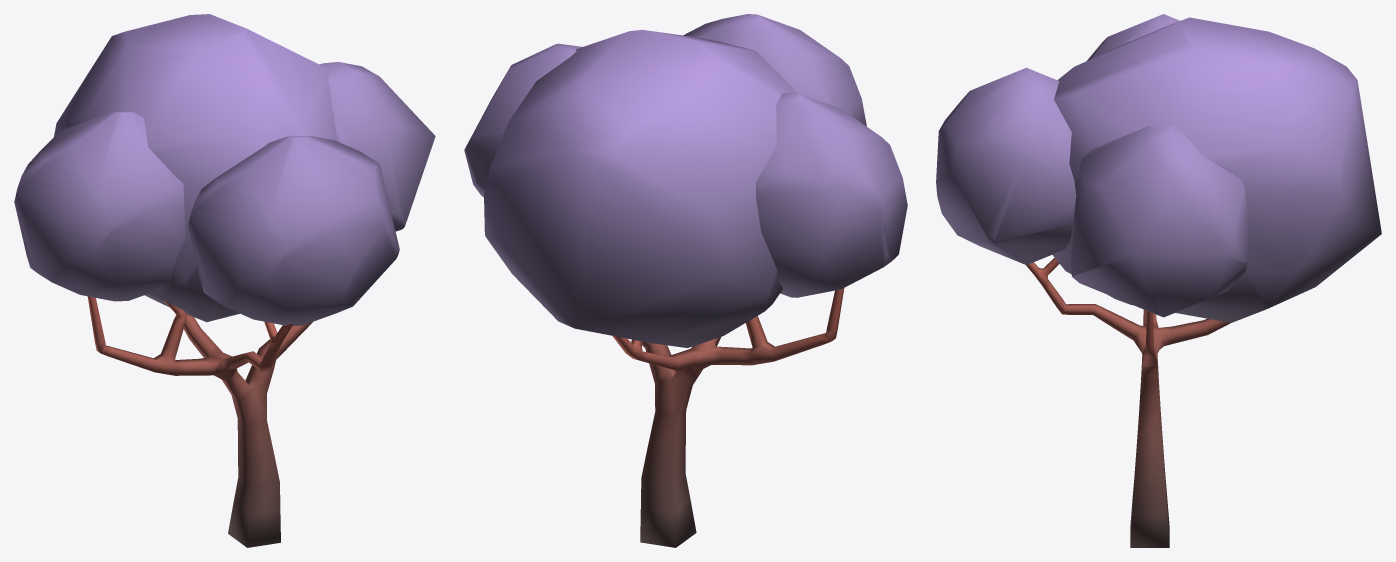
The picture shows the model from 3 angles, left to right: view 1: azimuth 30°, elevation 25°; view 2: azimuth 150°, elevation 25°; view 3: azimuth 270°, elevation 25°; orthographic projection. The views are drawn at different scales.
Parts seen in each view (by area): view 1: Vert.025; view 2: Vert.025; view 3: Vert.025.
Boxes of the visible parts, bbox=[...] form: Vert.025: bbox=[14, 14, 435, 547]; Vert.025: bbox=[464, 14, 907, 547]; Vert.025: bbox=[936, 14, 1381, 547].
Size of the model in its own units: 4.23 by 5.05 by 4.09.
Materials: 1 (1 with a texture image).
